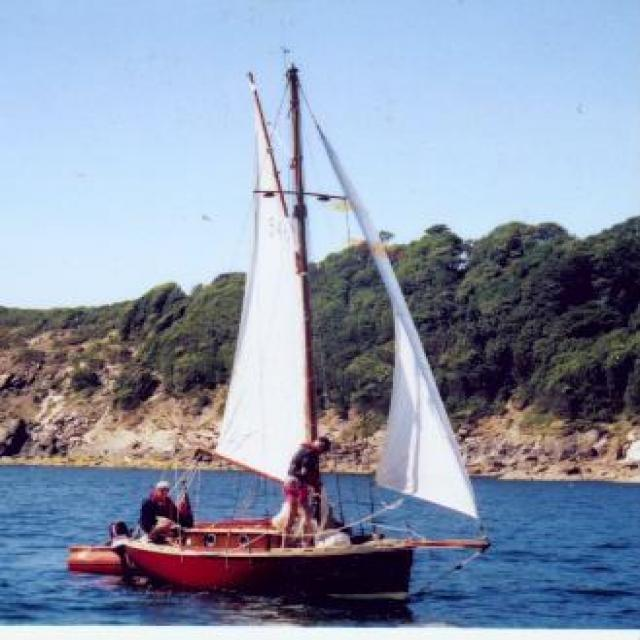Ship: (111, 67, 484, 608)
